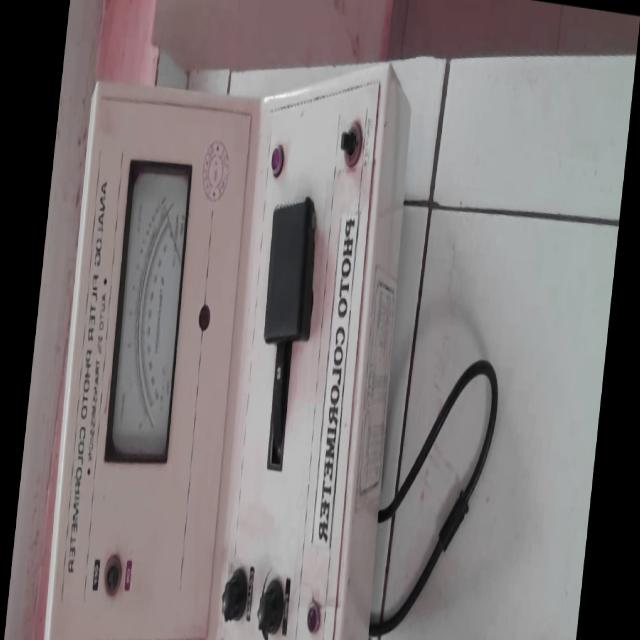Photocolorimeter: (27, 37, 411, 640)
